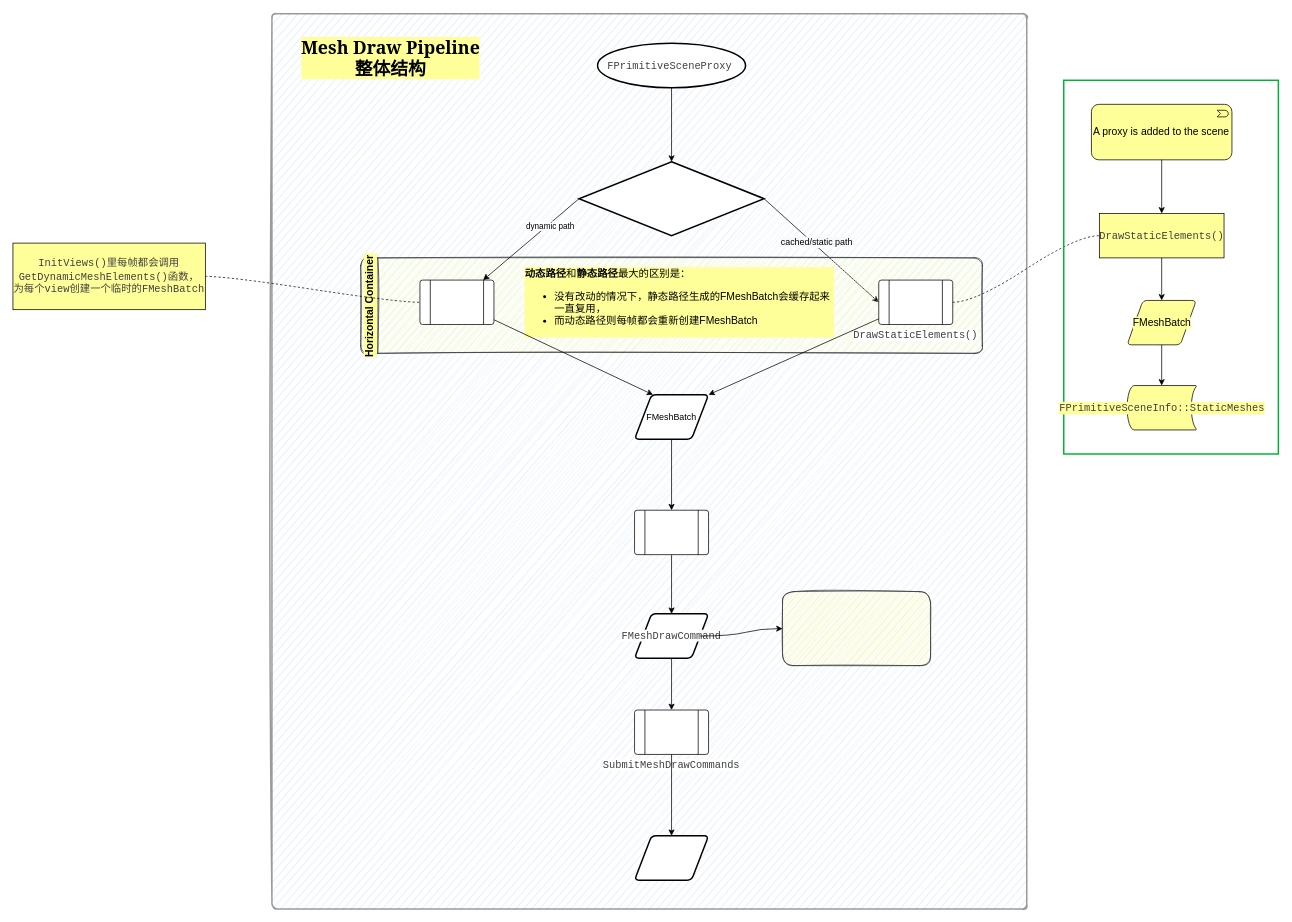
This 1292x922 diagram has some shape labels left out. The shapes that lost their labels are listed below. From the top down, each one's centre as x and y in pixels, then its label:
At (x=671, y=198): "GetViewRelevance()".
At (x=456, y=301): "GetDynamicMeshElements()".
At (x=671, y=532): "FMeshPassProcessor::AddMeshBatch".
At (x=856, y=628): "Which shaders to use. Their resource bindings. Draw call parameters.".
At (x=671, y=858): "Set of RHICommandList commands".
